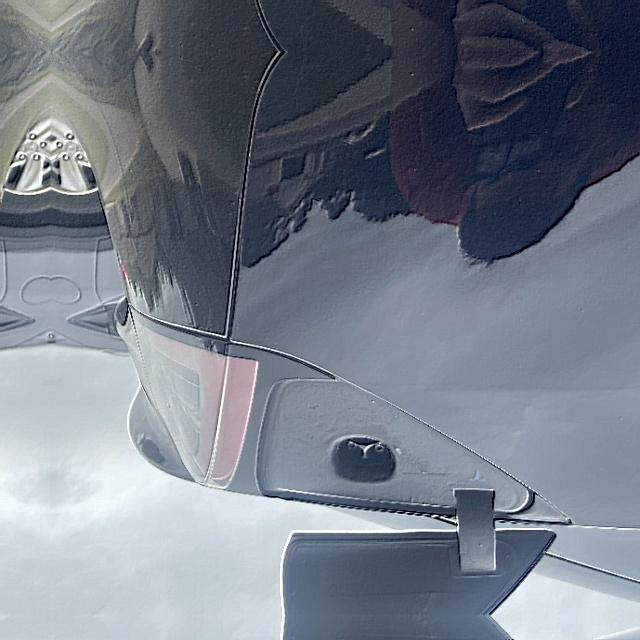Tesla Model-S-: (311, 425, 404, 501)
